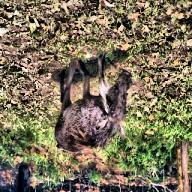boar: (53, 54, 133, 155)
